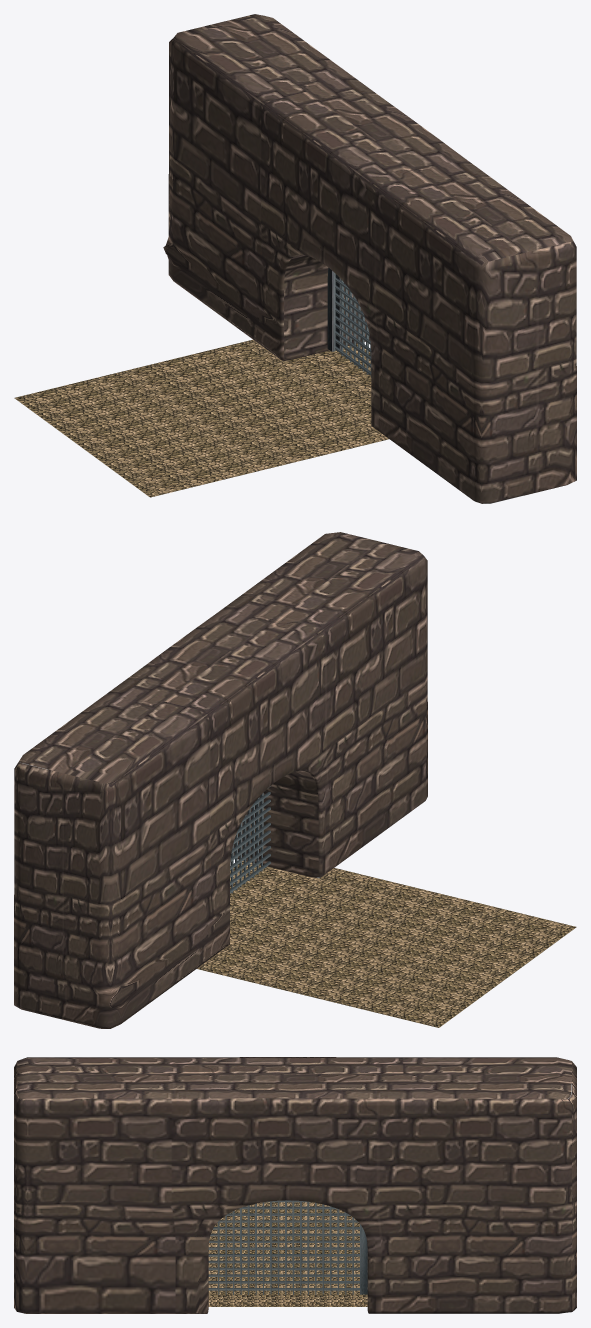
File: gate.fbx
3 views of the same model, one above another, from view 1: azimuth 30°, elevation 25°; view 2: azimuth 150°, elevation 25°; view 3: azimuth 270°, elevation 25° (orthographic). The views are drawn at different scales.
Visible parts, largest first — view 1: pCube3_curve2, polySurface122; view 2: pCube3_curve2, polySurface122; view 3: pCube3_curve2, polySurface122.
Boxes of the visible parts, left/top/right/bottom form: pCube3_curve2: left=163, top=14, right=576, bottom=503; polySurface122: left=14, top=339, right=388, bottom=497; pCube3_curve2: left=14, top=532, right=427, bottom=1028; polySurface122: left=197, top=860, right=576, bottom=1027; pCube3_curve2: left=14, top=1057, right=576, bottom=1313; polySurface122: left=208, top=1202, right=367, bottom=1306.
Size of the model in its own units: 185 by 130 by 301.
